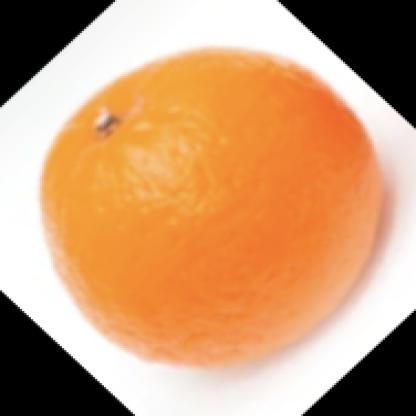fresh: (40, 50, 384, 365)
